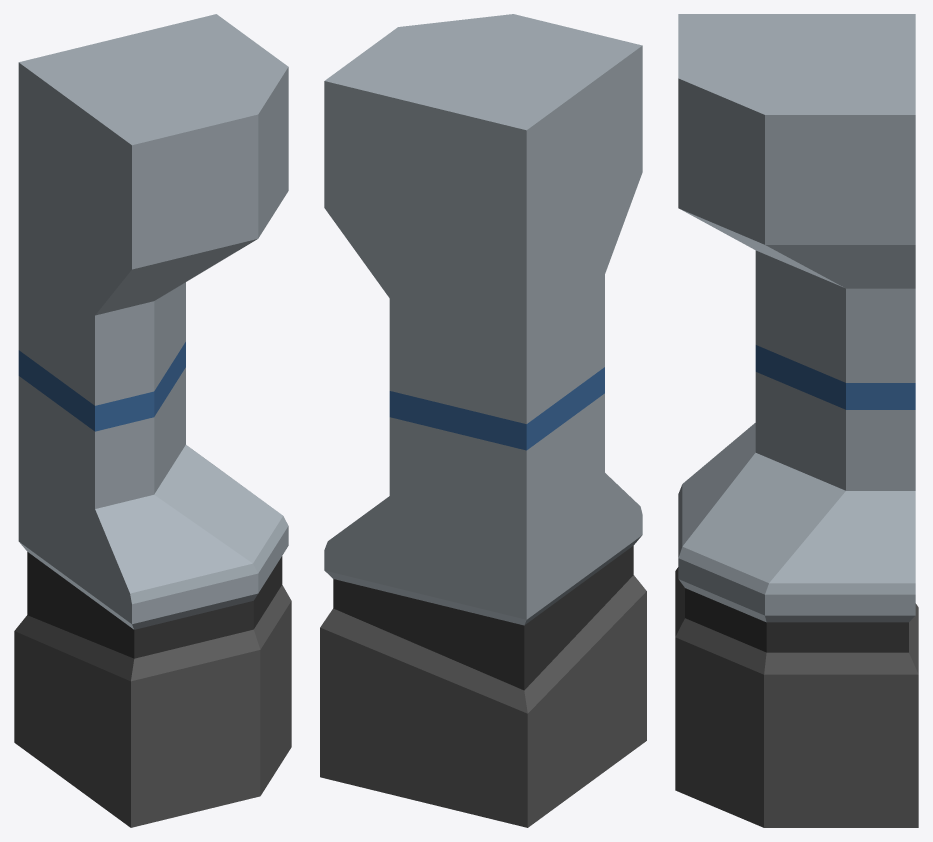
File: SM_Bld_Wall_Corner_Pillar_Wide_05.fbx
3 views of the same model, side by side, from view 1: azimuth 30°, elevation 25°; view 2: azimuth 150°, elevation 25°; view 3: azimuth 270°, elevation 25° (orthographic). The views are drawn at different scales.
Visible parts, largest first — view 1: SM_Bld_Wall_Corner_Pillar_Wide_05; view 2: SM_Bld_Wall_Corner_Pillar_Wide_05; view 3: SM_Bld_Wall_Corner_Pillar_Wide_05.
Boxes of the visible parts, <box> form: SM_Bld_Wall_Corner_Pillar_Wide_05: <box>14,14,291,827</box>; SM_Bld_Wall_Corner_Pillar_Wide_05: <box>320,14,646,827</box>; SM_Bld_Wall_Corner_Pillar_Wide_05: <box>675,14,918,827</box>.
Bounding box in the file's own units: 159 × 509 × 158.
Materials: 1 (1 with a texture image).
